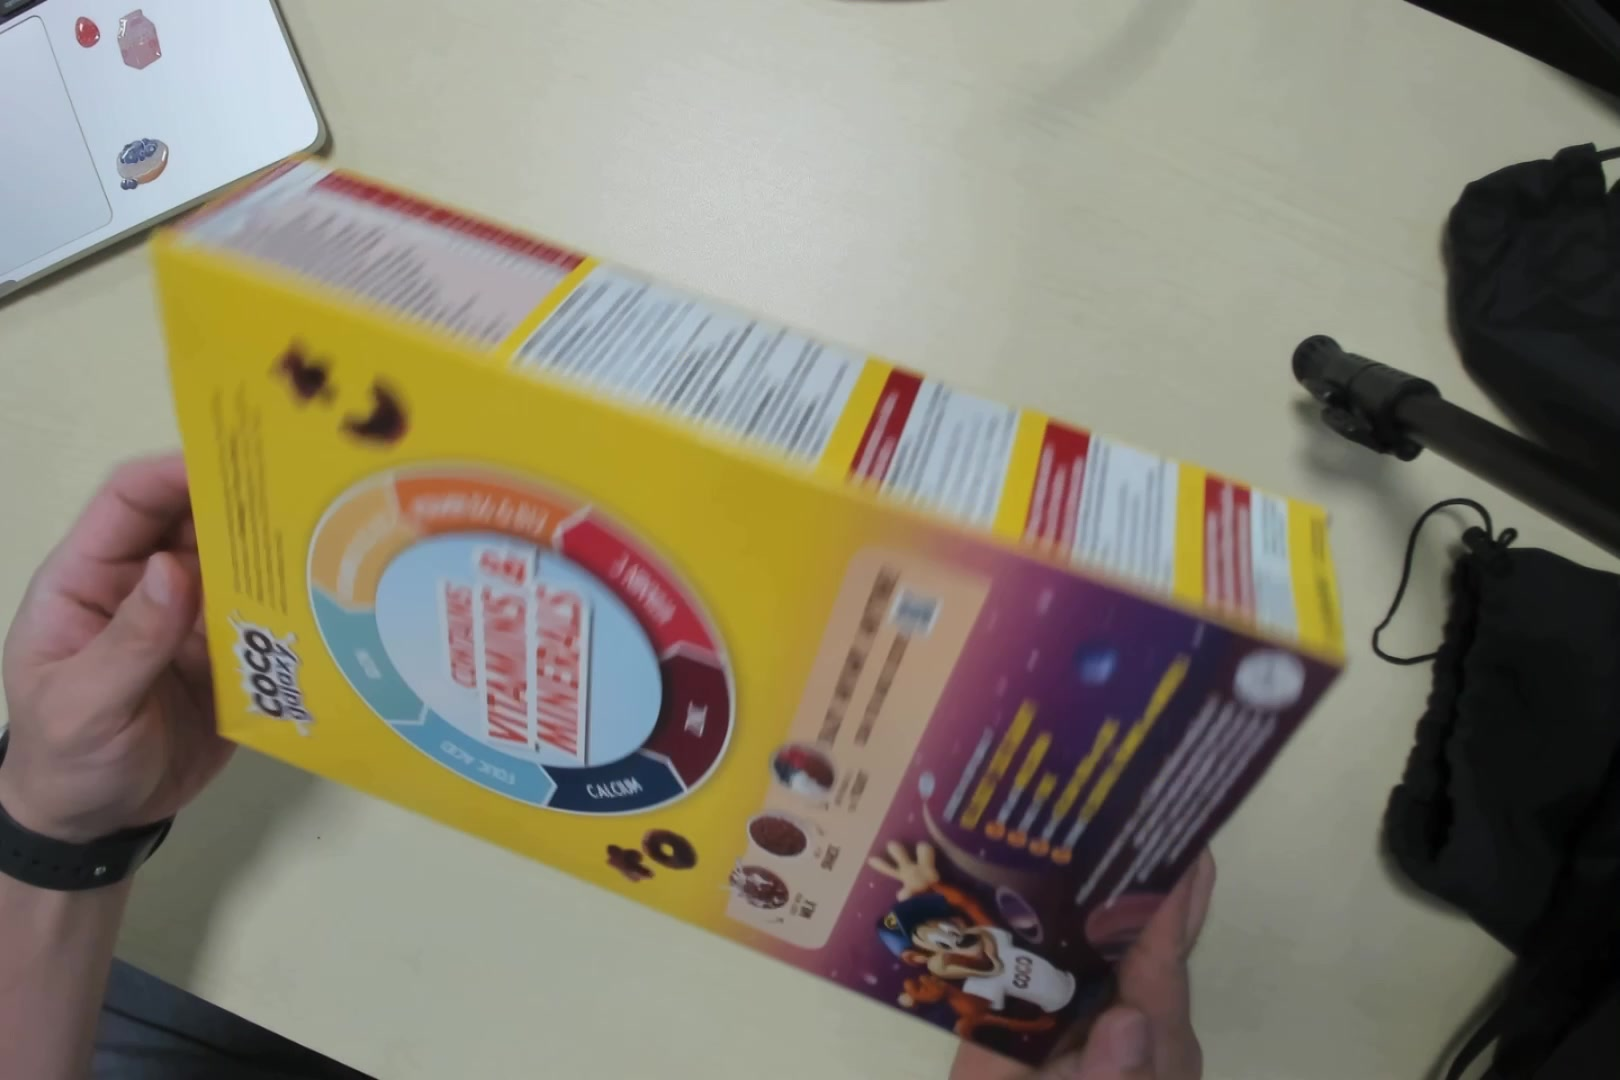BreakfastCereals_300-399g_Halal_NonHealthy: (152, 157, 1346, 1080)
